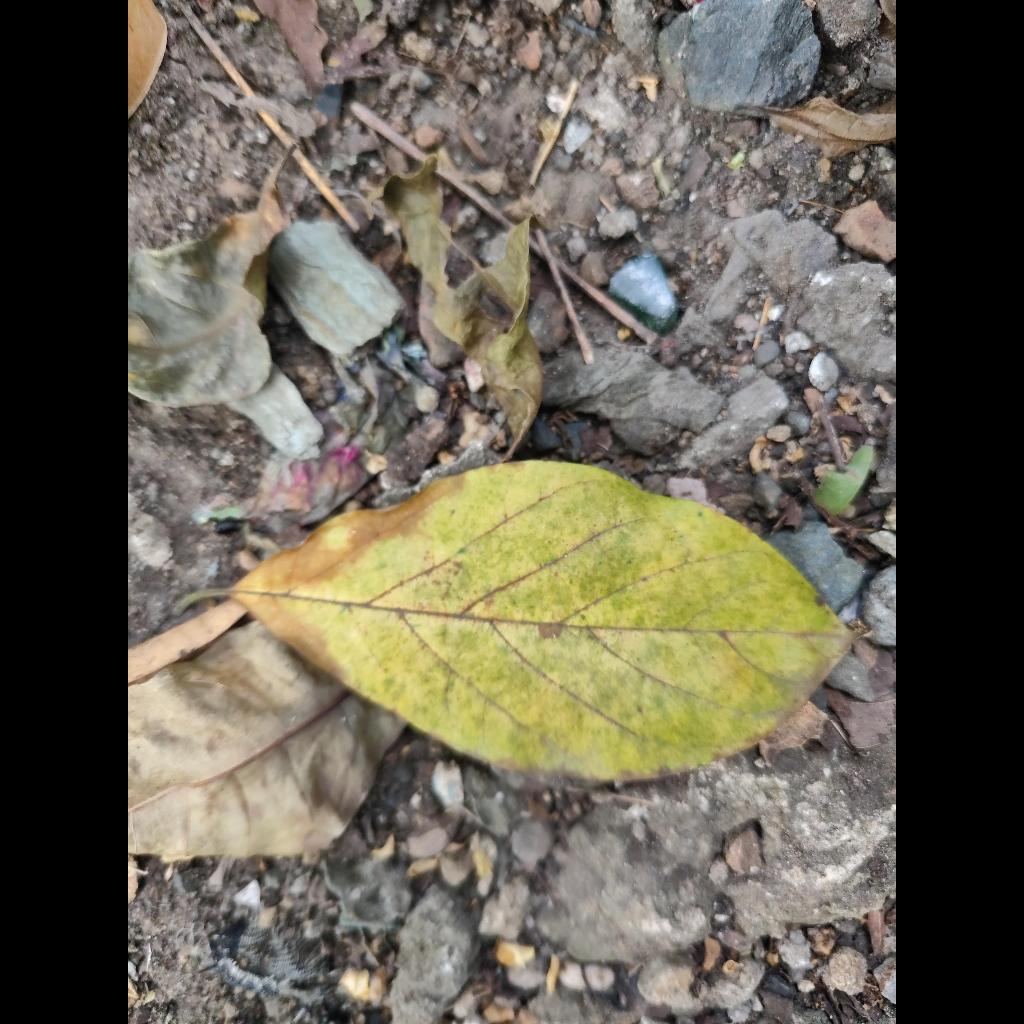nutrient_deficiency: (232, 461, 849, 780)
